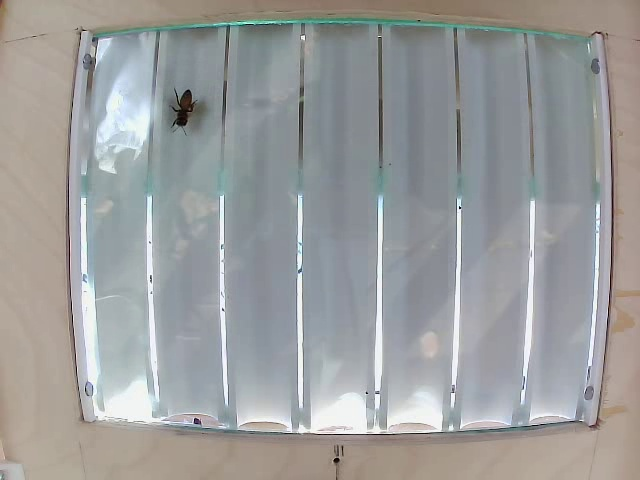bee: (164, 89, 198, 139)
